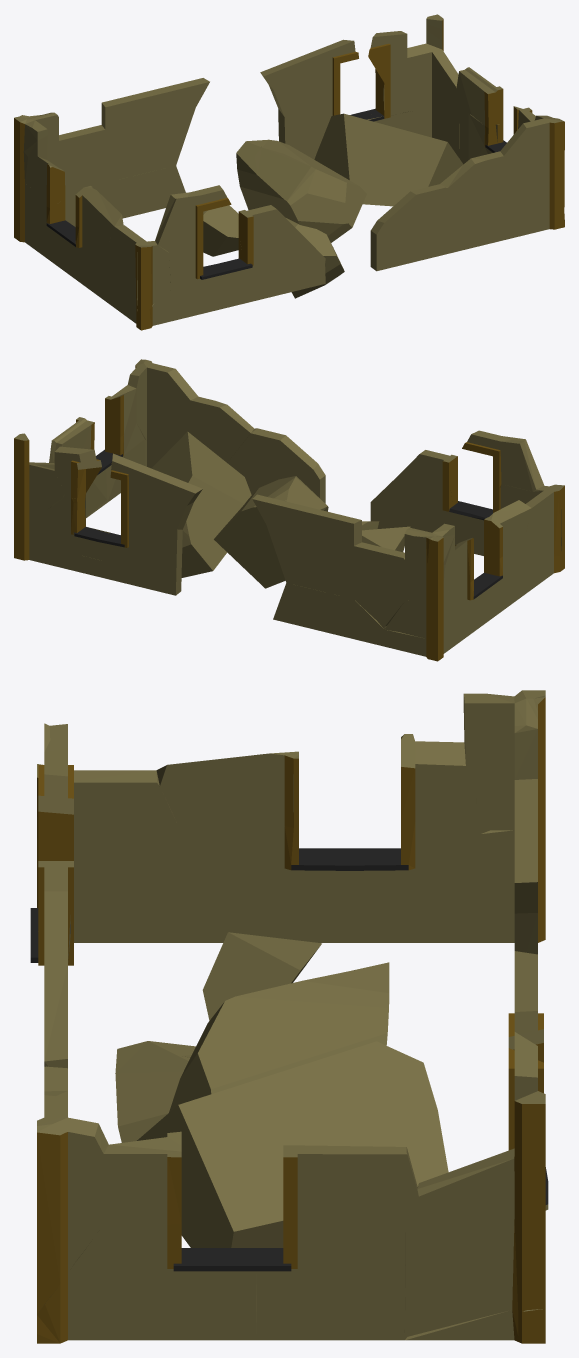
Rendered from cabin_broken.dae.
The picture shows the model from 3 angles, top to bottom: view 1: azimuth 30°, elevation 25°; view 2: azimuth 150°, elevation 25°; view 3: azimuth 270°, elevation 25°; orthographic projection. The views are drawn at different scales.
Visible parts, largest first — view 1: Cabin_broken; view 2: Cabin_broken; view 3: Cabin_broken.
Boxes of the visible parts, x1,y1,x2,y2 form: Cabin_broken: (14, 14, 564, 330); Cabin_broken: (14, 359, 564, 661); Cabin_broken: (30, 690, 548, 1343).
Bounding box in the file's own units: 8.4 × 4.4 × 3.01.
